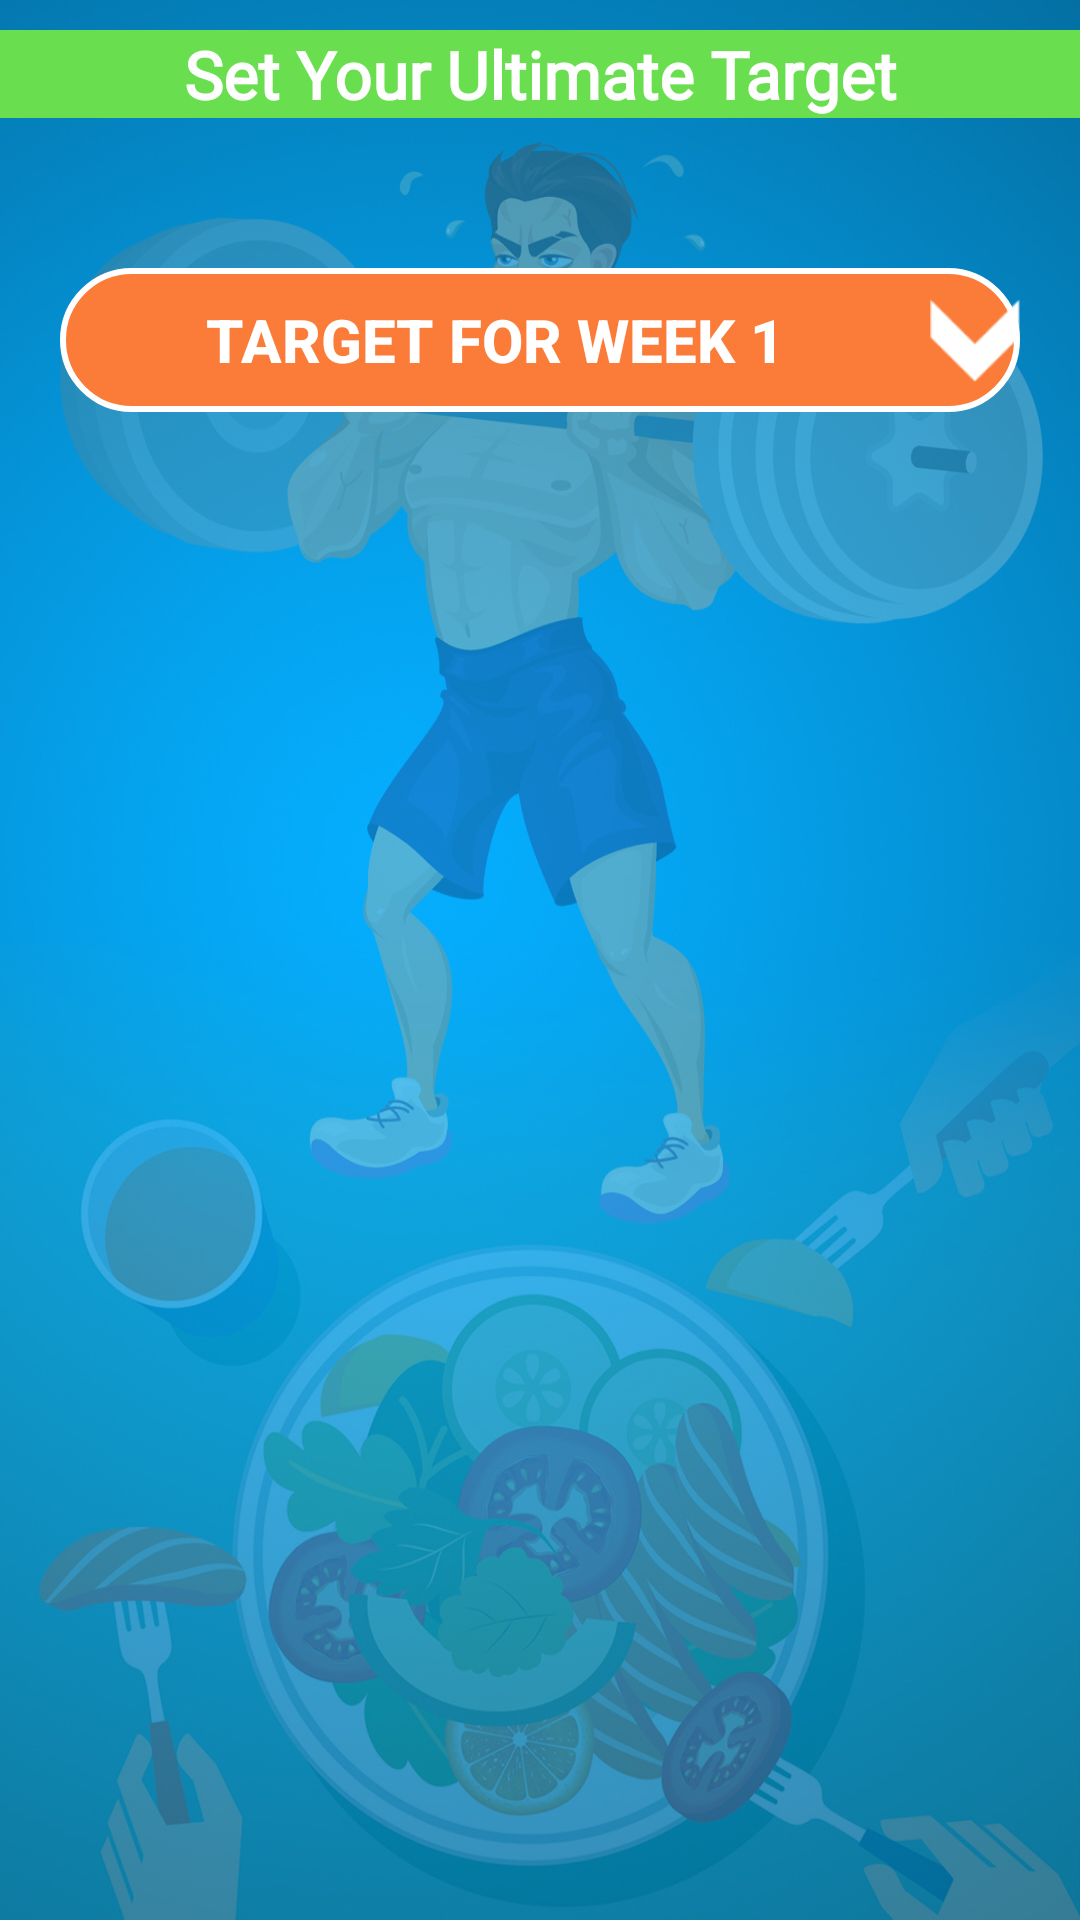

Icons on this 1080 × 1920 Android screen, each with the point to tap as (x=x, y=y):
downarrow: (x=975, y=340)
